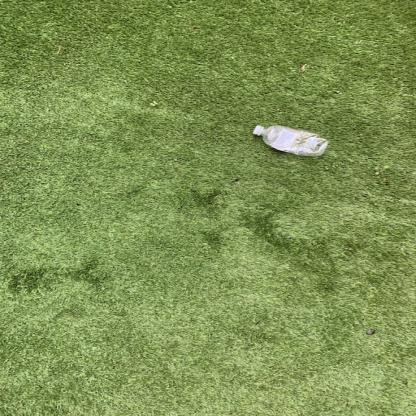trash: (250, 123, 334, 159)
